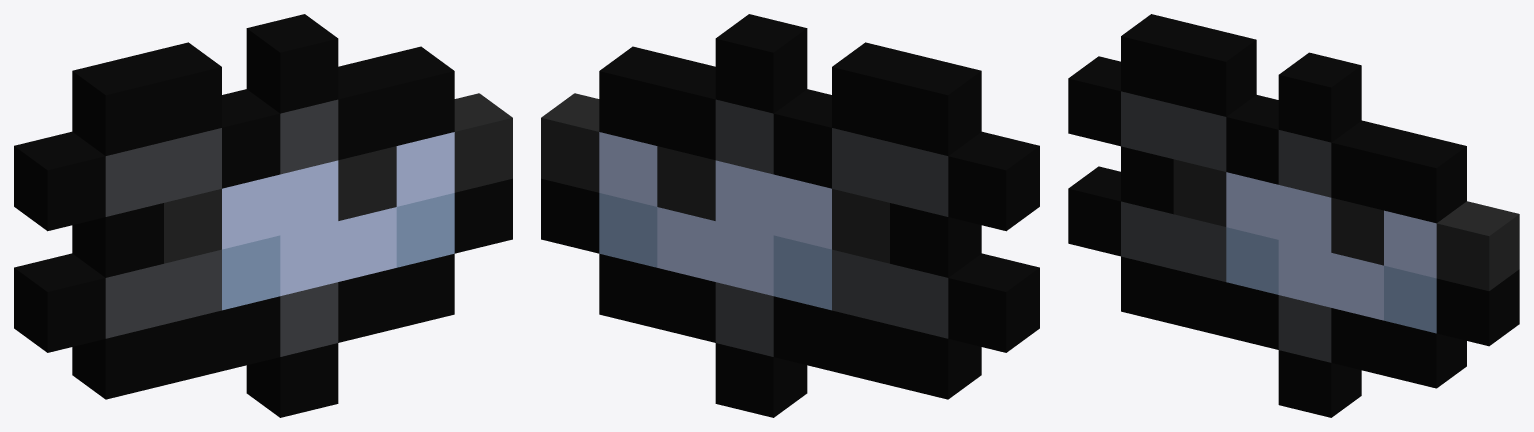
Rendered from Blackfin Icefish.glb.
The picture shows the model from 3 angles, left to right: view 1: azimuth 30°, elevation 25°; view 2: azimuth 150°, elevation 25°; view 3: azimuth 330°, elevation 25°; orthographic projection. The views are drawn at different scales.
Visible parts, largest first — view 1: generated(Clone); view 2: generated(Clone); view 3: generated(Clone).
Boxes of the visible parts, <box> form: generated(Clone): <box>14,14,512,417</box>; generated(Clone): <box>541,14,1039,417</box>; generated(Clone): <box>1068,14,1519,417</box>.
Size of the model in its own units: 8 by 6 by 1.
Materials: 1 (1 with a texture image).
